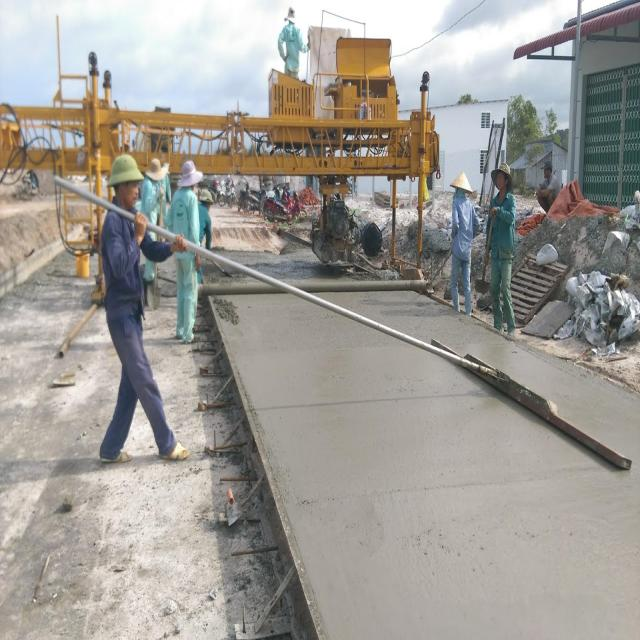no_boots: (100, 447, 130, 471), (161, 440, 189, 463)
no_gloves: (135, 214, 149, 244), (171, 229, 186, 249), (488, 202, 494, 220), (195, 253, 201, 268)
no_hardhat: (112, 153, 140, 211), (496, 152, 511, 192), (180, 162, 198, 190), (456, 171, 468, 194), (150, 159, 163, 180), (286, 10, 295, 25)
no_vest: (96, 208, 145, 314), (173, 185, 200, 277), (488, 197, 514, 256), (453, 193, 475, 262), (278, 26, 306, 70)
person: (100, 156, 191, 466), (169, 161, 206, 345), (487, 158, 518, 338), (450, 171, 480, 320), (276, 12, 313, 78)
